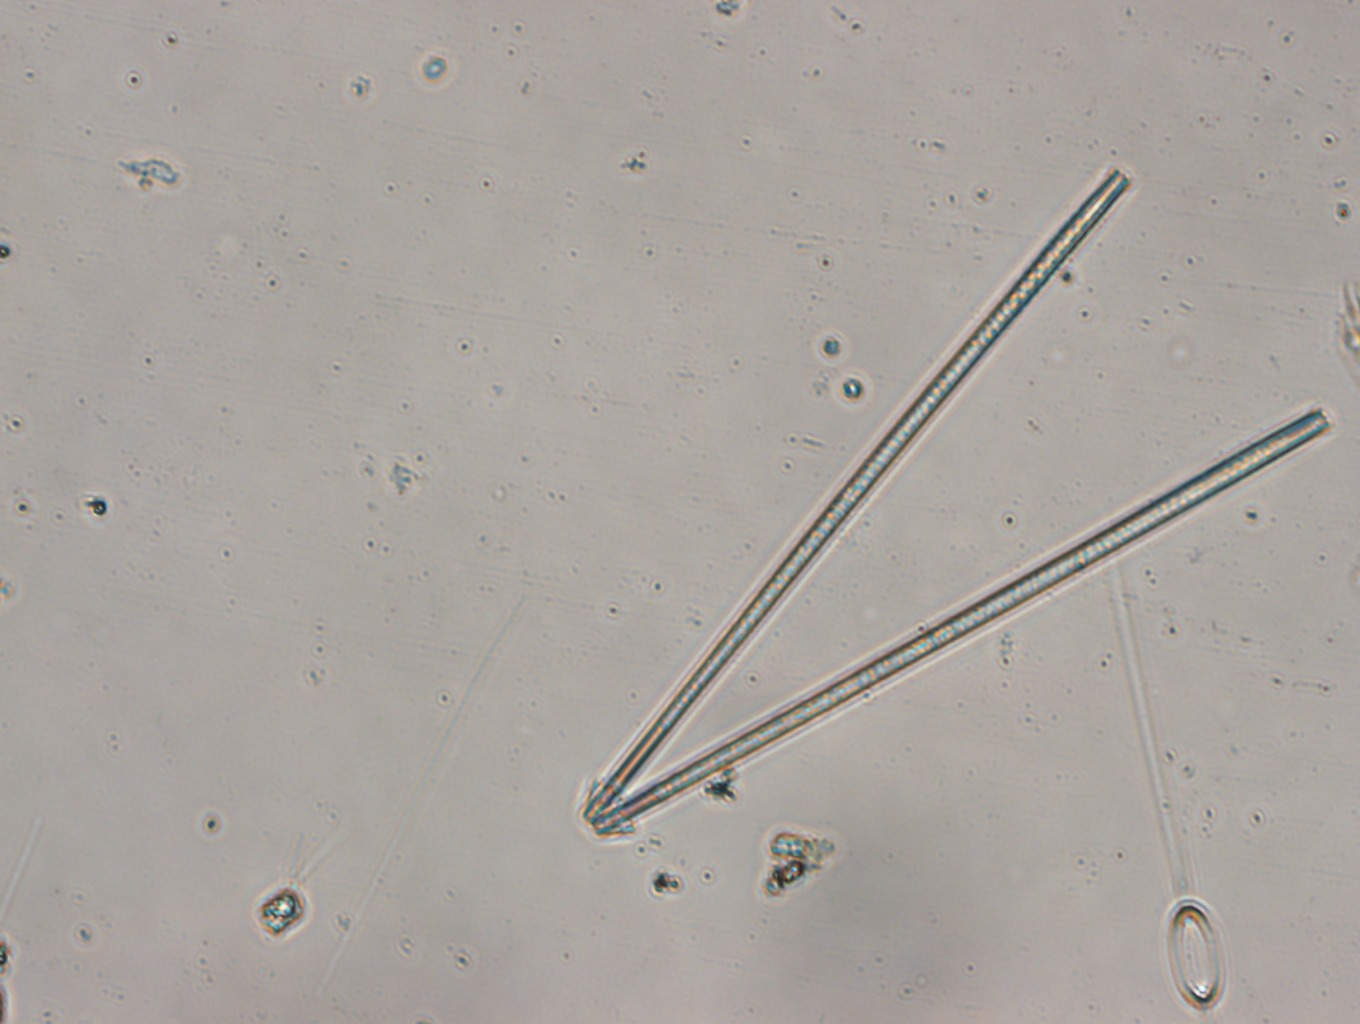thalassionema frauenfeldii: (574, 170, 1335, 839)
